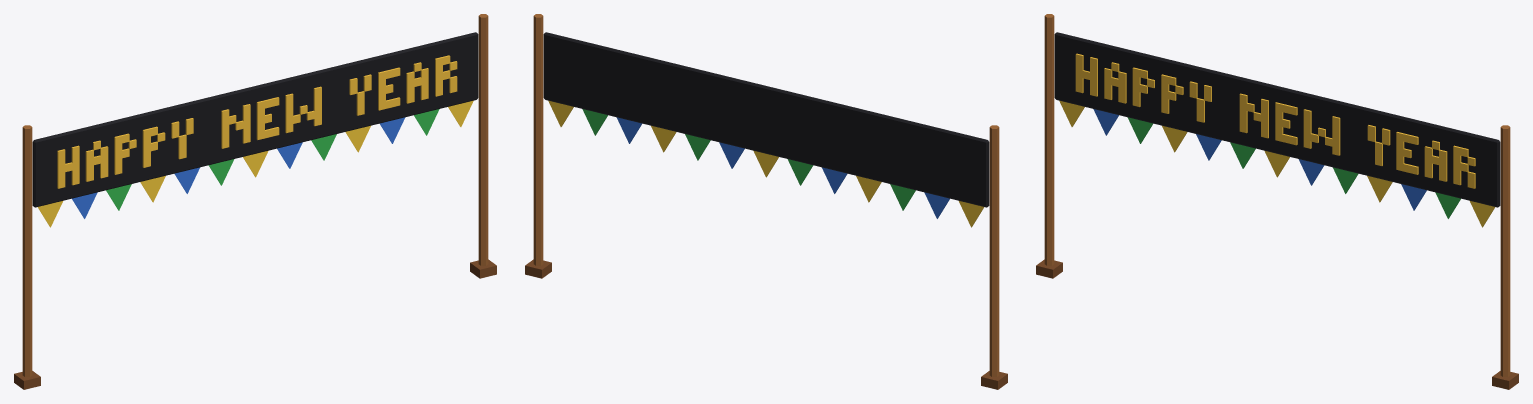
The model's file is NewYearBanner.fbx.
The picture shows the model from 3 angles, left to right: view 1: azimuth 30°, elevation 25°; view 2: azimuth 150°, elevation 25°; view 3: azimuth 330°, elevation 25°; orthographic projection.
Visible parts, largest first — view 1: NewYearBanner; view 2: NewYearBanner; view 3: NewYearBanner.
Boxes of the visible parts, left/top/right/bottom form: NewYearBanner: left=14, top=14, right=496, bottom=389; NewYearBanner: left=525, top=14, right=1007, bottom=389; NewYearBanner: left=1036, top=14, right=1518, bottom=389.
Bounding box in the file's own units: 16.6 × 8.62 × 0.6.
Materials: 1 (1 with a texture image).
